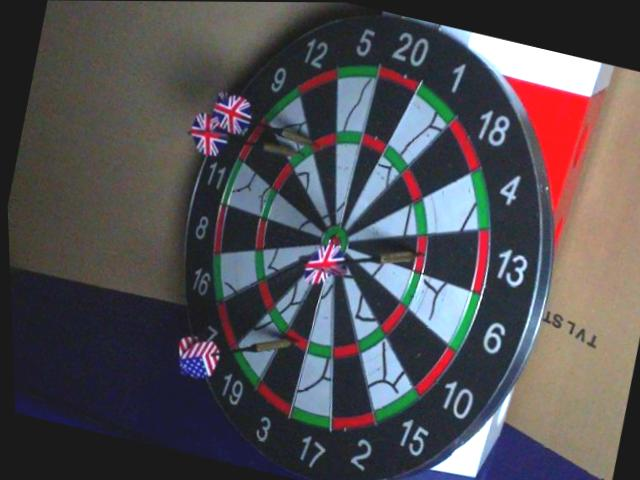triple_12: (312, 134, 336, 150)
triple_13: (414, 238, 429, 271)
triple_3: (285, 331, 305, 347)
triple_9: (292, 149, 311, 164)
